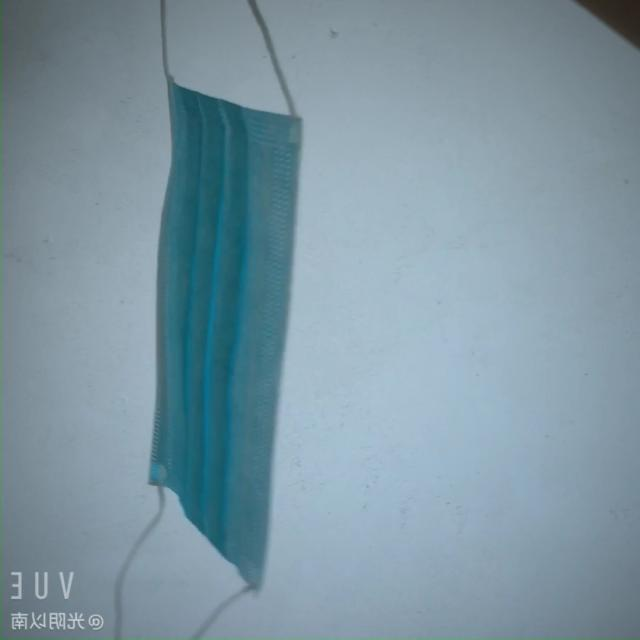face mask: (118, 61, 319, 600)
